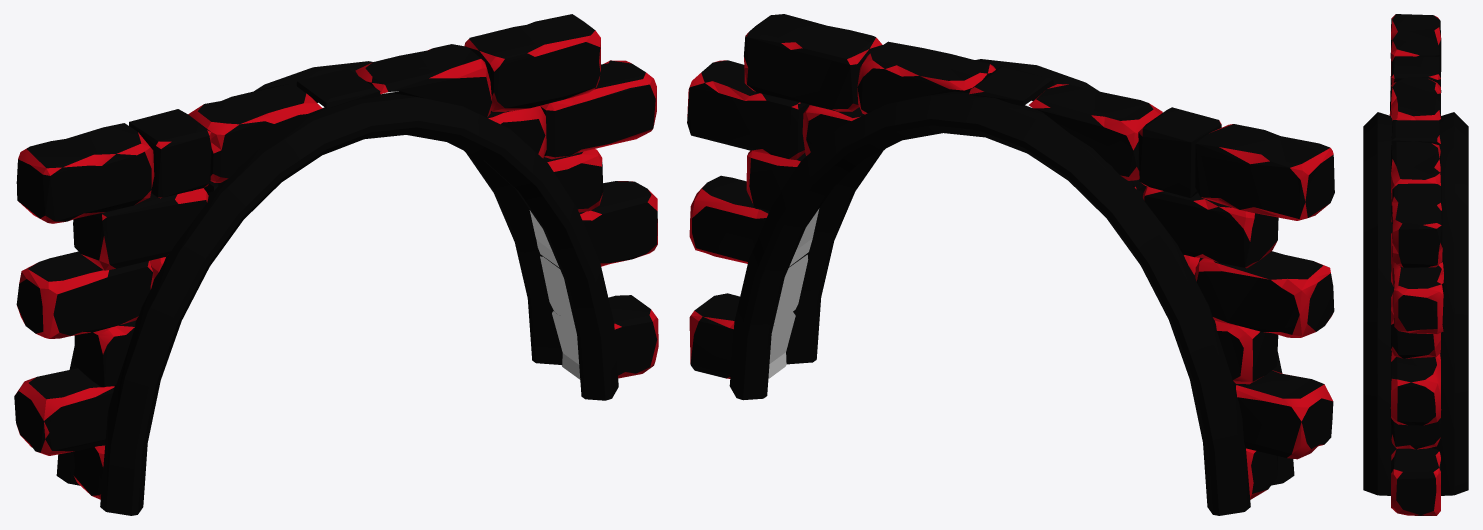
The model's file is SM_Wall_Arch2D_Cover.fbx.
3 renders of one model, left to right at view 1: azimuth 30°, elevation 25°; view 2: azimuth 150°, elevation 25°; view 3: azimuth 270°, elevation 25°, orthographic. The views are drawn at different scales.
Visible parts, largest first — view 1: SM_Wall_Arch2D_Cover; view 2: SM_Wall_Arch2D_Cover; view 3: SM_Wall_Arch2D_Cover.
Part boxes in pixels (x1,y1,x2,y2): SM_Wall_Arch2D_Cover: [14, 14, 658, 515]; SM_Wall_Arch2D_Cover: [687, 14, 1334, 515]; SM_Wall_Arch2D_Cover: [1363, 14, 1468, 515].
Bounding box in the file's own units: 440 × 84.14 × 241.
